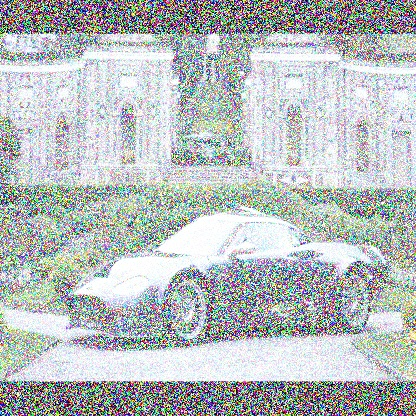Vehicle: (67, 203, 389, 348)
